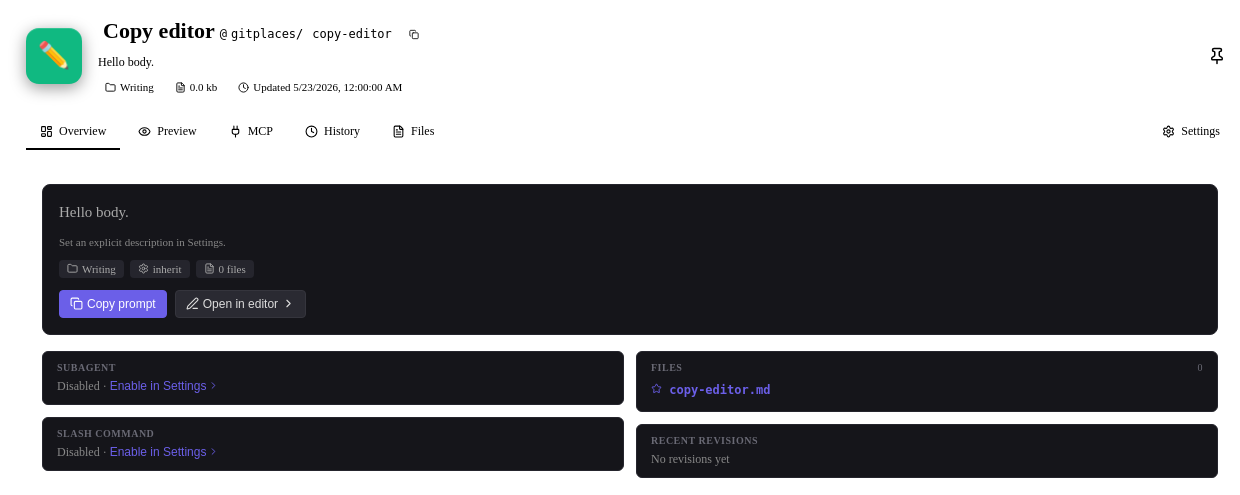
Scenario: AgentDetail — tabs › Preview tab renders markdown of agent.body
expect the heading "Copy editor" is shown: met, box [98, 16, 220, 46]
What coordinates should you click on to do the following:
click the tab "Preview"
I would click on:
 (167, 130)
Its box is [124, 111, 211, 150].
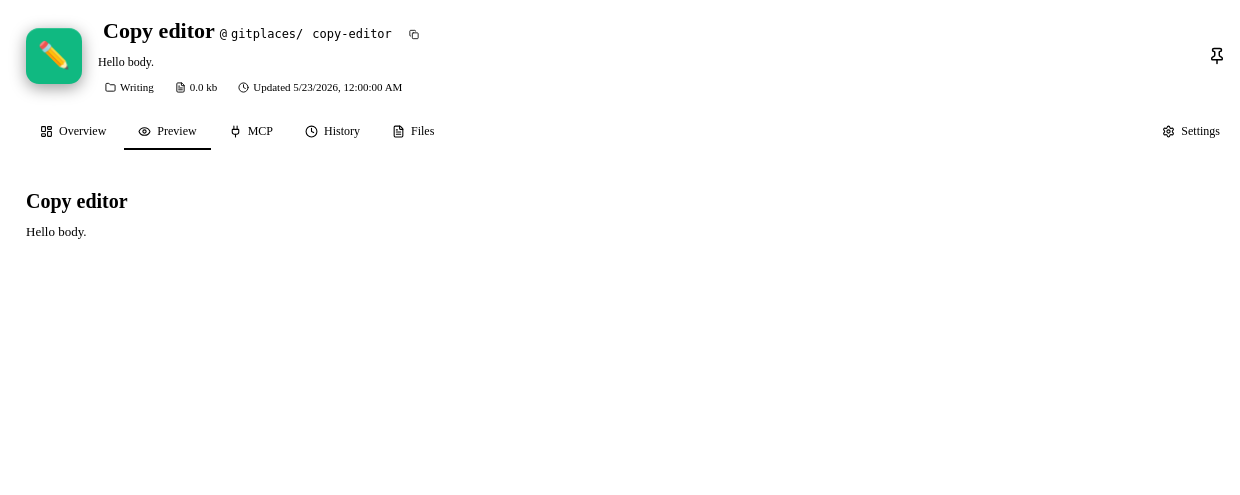
expect the 2nd heading "Copy editor" is shown: met, box [26, 190, 128, 212]
